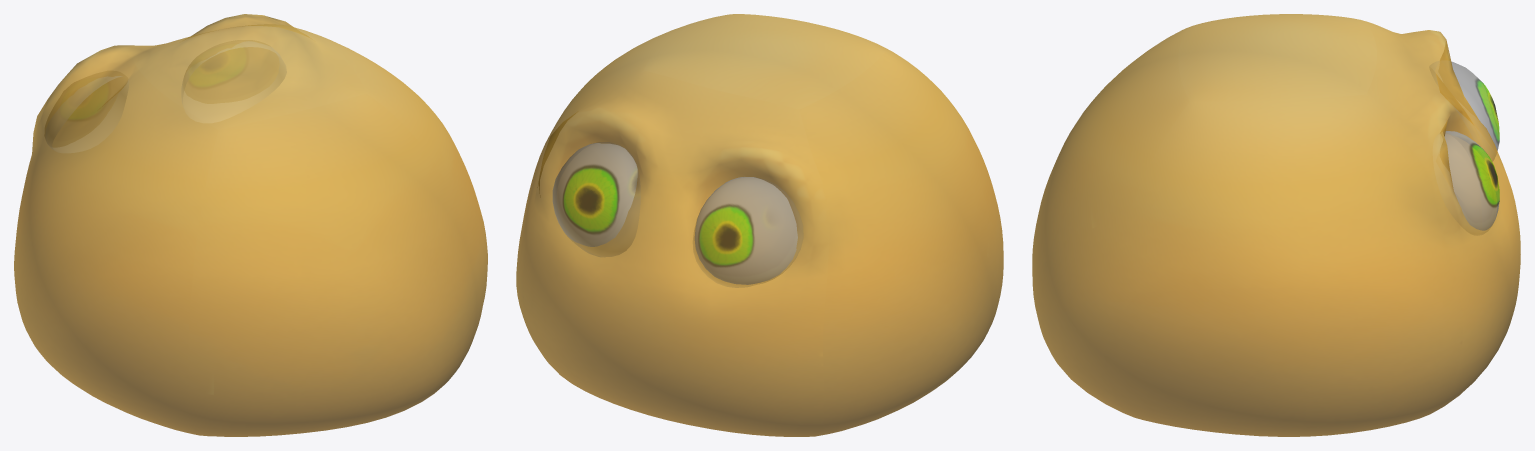
File: CharacteNotAnimation.gltf
3 renders of one model, left to right at view 1: azimuth 30°, elevation 25°; view 2: azimuth 150°, elevation 25°; view 3: azimuth 270°, elevation 25°, orthographic. The views are drawn at different scales.
Visible parts, largest first — view 1: Character; view 2: Character; view 3: Character.
Part boxes in pixels (x1,y1,x2,y2): Character: (14, 14, 487, 436); Character: (516, 14, 1003, 436); Character: (1032, 14, 1520, 436).
Bounding box in the file's own units: 1.81 × 1.34 × 1.78.
Materials: 2 (2 with a texture image).
